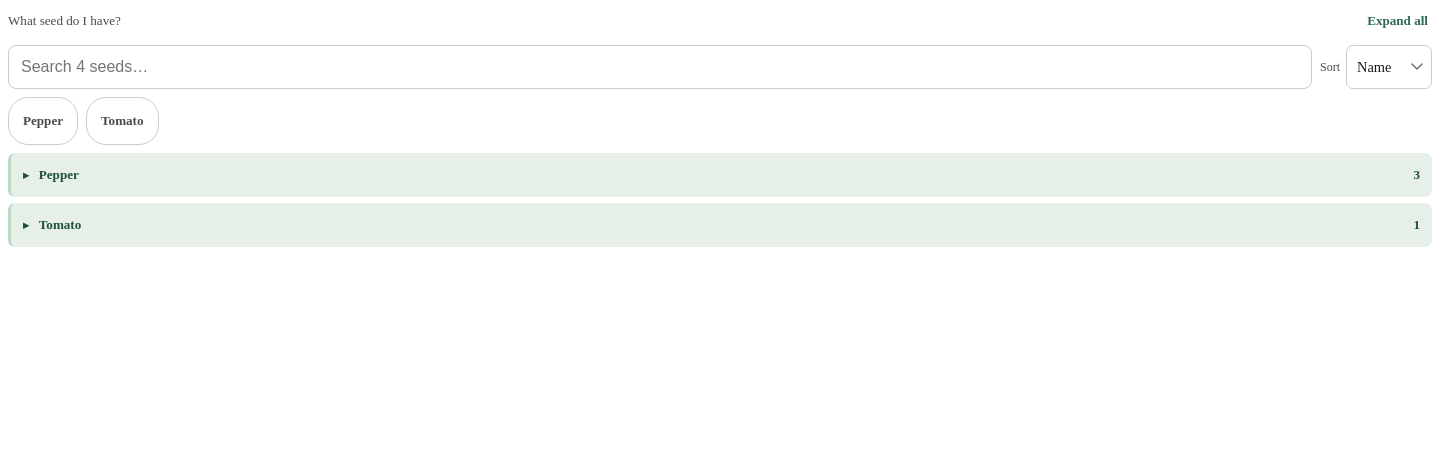
Test case: My seeds — opening a folded group keeps the header still › does NOT scroll when row 1 is whole and 24px+ of row 2 shows — gate (e2) at 360x640, measured
This screenshot has width=1440, height=456.
Expected: the element showing "▸ Tomato 1" is shown, x1=8 y1=203 x2=1432 y2=247
Click the button with test id "facet-group-header" showing "▸ Pepper 3" at (59, 174), box x1=8 y1=153 x2=1432 y2=197
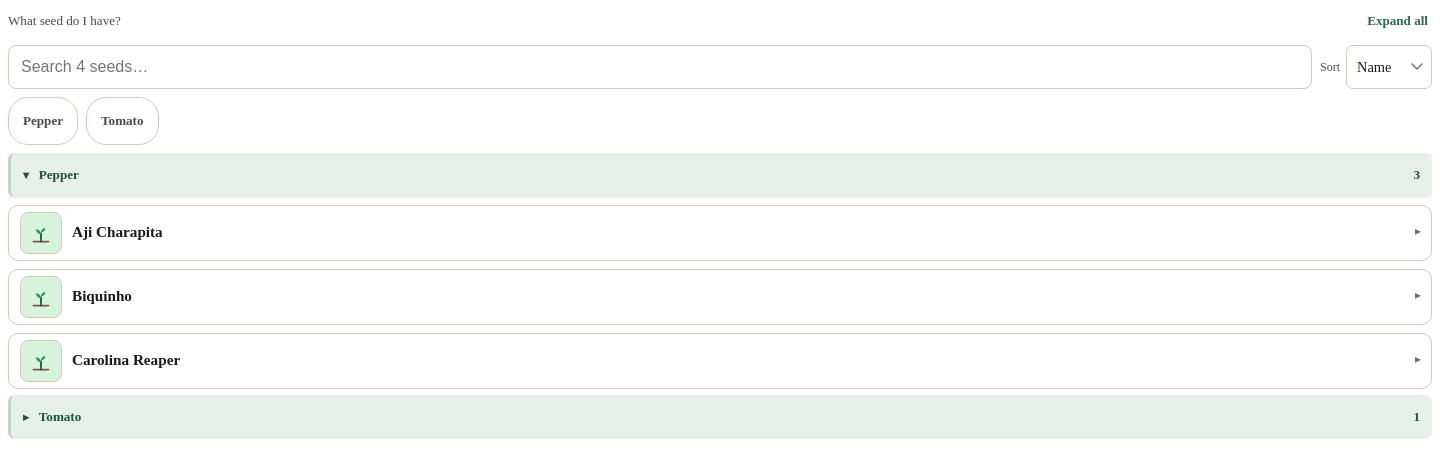
Now the button with test id "facet-group-header" is expanded, box x1=8 y1=153 x2=1432 y2=197
